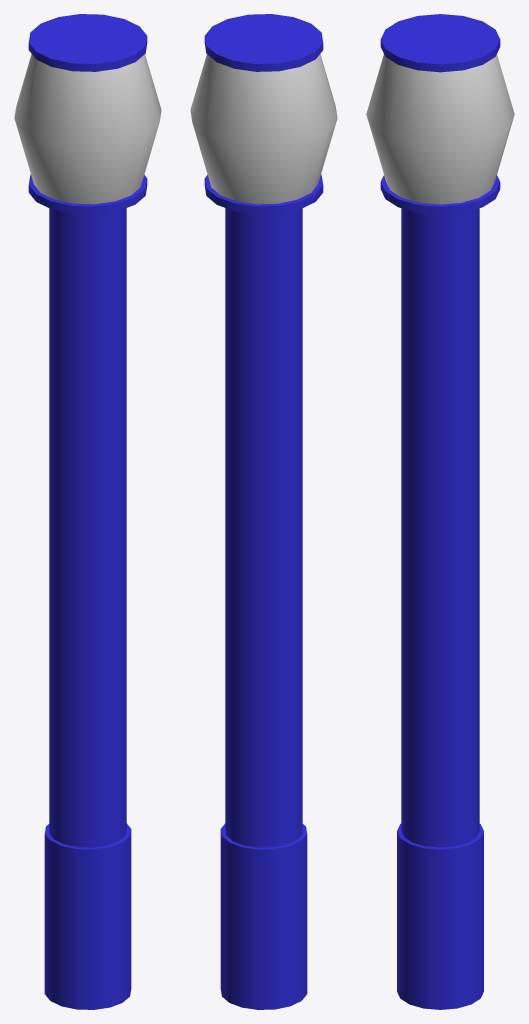
The model's file is alnatern paal .fbx.
3 views of the same model, side by side, from view 1: azimuth 30°, elevation 25°; view 2: azimuth 150°, elevation 25°; view 3: azimuth 270°, elevation 25° (orthographic).
Parts seen in each view (by area): view 1: Cylinder; view 2: Cylinder; view 3: Cylinder.
Boxes of the visible parts, x1,y1,x2,y2 form: Cylinder: (14,14,161,1009); Cylinder: (190,14,337,1009); Cylinder: (366,14,514,1009).
Size of the model in its own units: 56.48 by 400 by 56.48.
